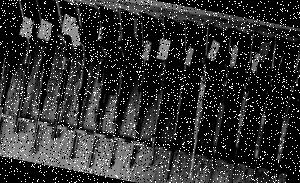rifle: (49, 1, 105, 160), (112, 8, 166, 172), (173, 17, 226, 183), (92, 9, 146, 169), (134, 11, 184, 172), (154, 17, 202, 183), (196, 26, 245, 183), (34, 0, 86, 146), (240, 32, 290, 183), (218, 29, 265, 183), (263, 35, 300, 183)
